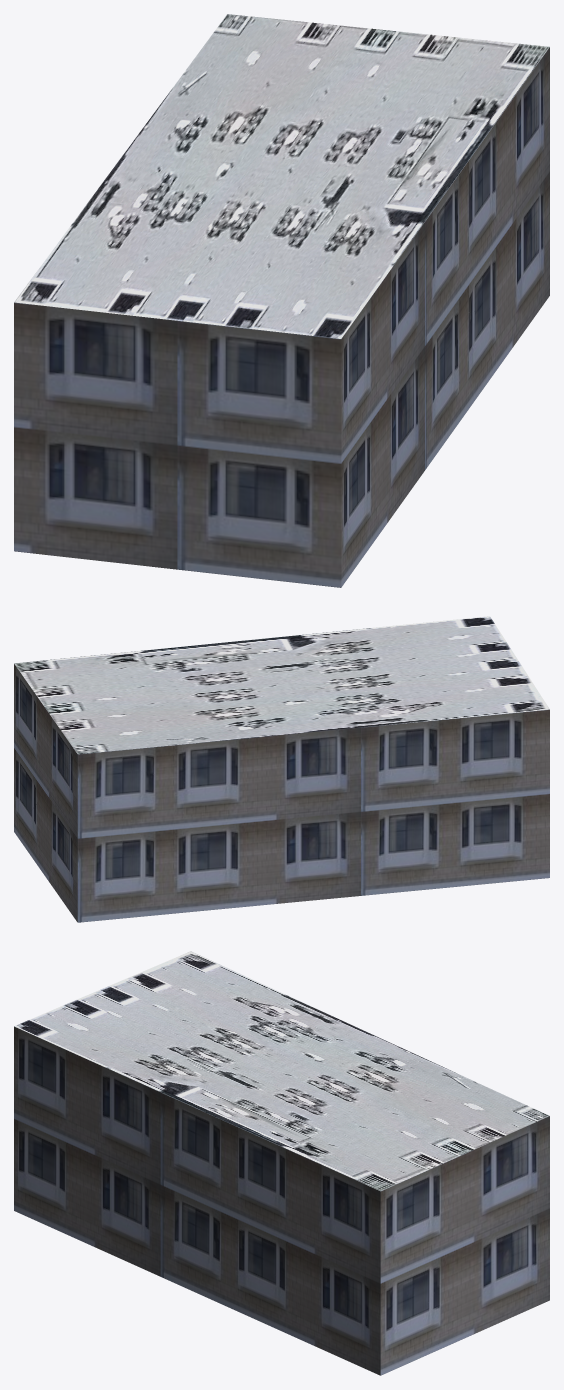
Rendered from ResTex__1639.fbx.
3 renders of one model, top to bottom at view 1: azimuth 30°, elevation 25°; view 2: azimuth 150°, elevation 25°; view 3: azimuth 270°, elevation 25°, orthographic. The views are drawn at different scales.
Visible parts, largest first — view 1: CityEngineMaterial_3_m, CityEngineMaterial_4_m; view 2: CityEngineMaterial_3_m, CityEngineMaterial_4_m; view 3: CityEngineMaterial_3_m, CityEngineMaterial_4_m.
Boxes of the visible parts, x1,y1,x2,y2 form: CityEngineMaterial_3_m: [14, 47, 549, 587]; CityEngineMaterial_4_m: [14, 14, 549, 338]; CityEngineMaterial_3_m: [14, 664, 549, 922]; CityEngineMaterial_4_m: [14, 616, 549, 754]; CityEngineMaterial_3_m: [14, 1026, 549, 1375]; CityEngineMaterial_4_m: [14, 951, 549, 1191].
Bounding box in the file's own units: 16.75 × 6 × 15.8.
Materials: 2 (2 with a texture image).
